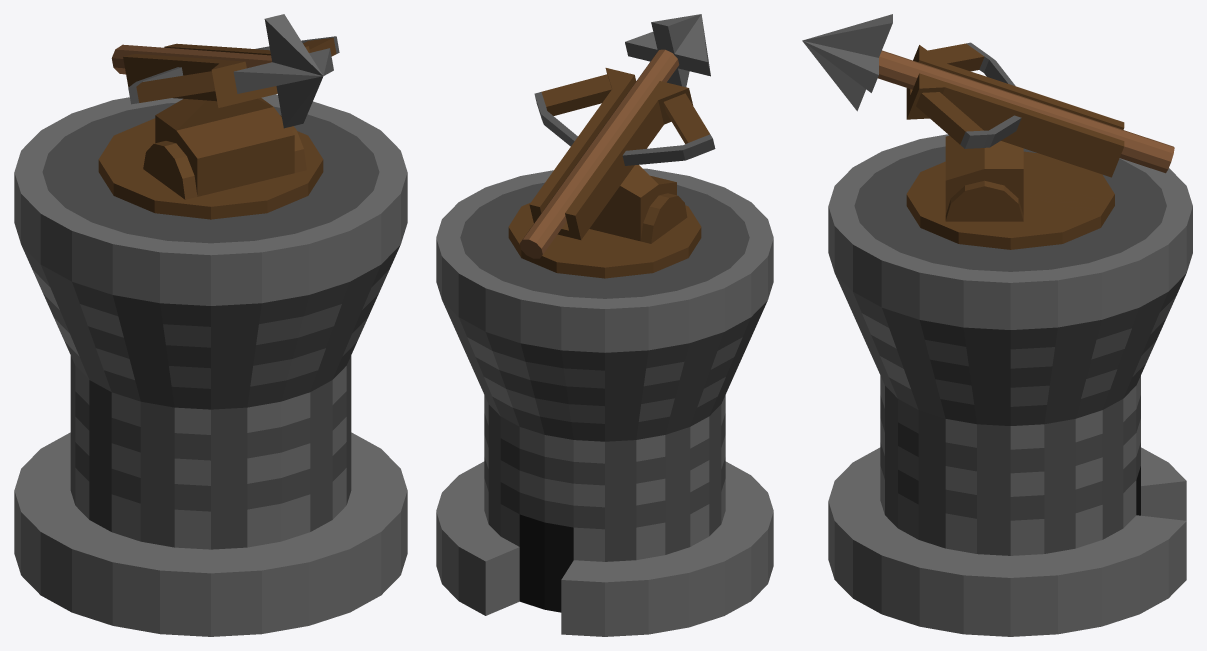
File: Knights_Ballista.fbx
3 views of the same model, side by side, from view 1: azimuth 30°, elevation 25°; view 2: azimuth 150°, elevation 25°; view 3: azimuth 270°, elevation 25° (orthographic). The views are drawn at different scales.
Parts seen in each view (by area): view 1: Knights_Ballista, Turret; view 2: Knights_Ballista, Turret; view 3: Knights_Ballista, Turret.
Part boxes in pixels (x1=…): Knights_Ballista: x1=14, y1=94, x2=407, y2=636; Turret: x1=98, y1=14, x2=339, y2=219; Knights_Ballista: x1=436, y1=168, x2=773, y2=636; Turret: x1=508, y1=14, x2=715, y2=278; Knights_Ballista: x1=828, y1=134, x2=1192, y2=636; Turret: x1=802, y1=14, x2=1174, y2=249.
Size of the model in its own units: 140 by 229 by 150.
